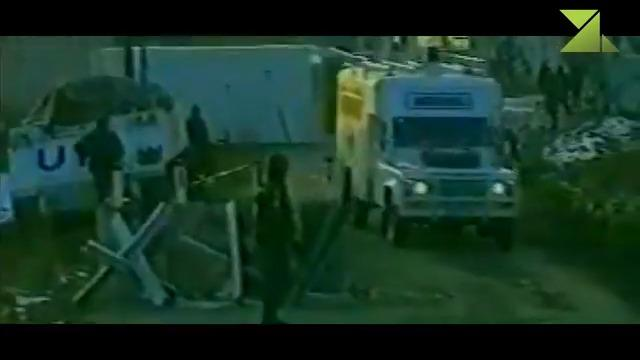MIL_HMMWV: (335, 61, 521, 245), (254, 154, 303, 324), (75, 112, 125, 205)
